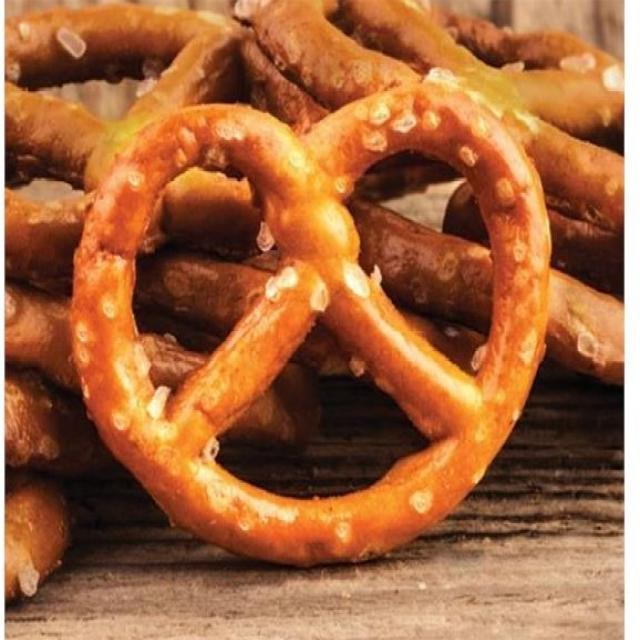Salatini: (69, 83, 552, 571)
